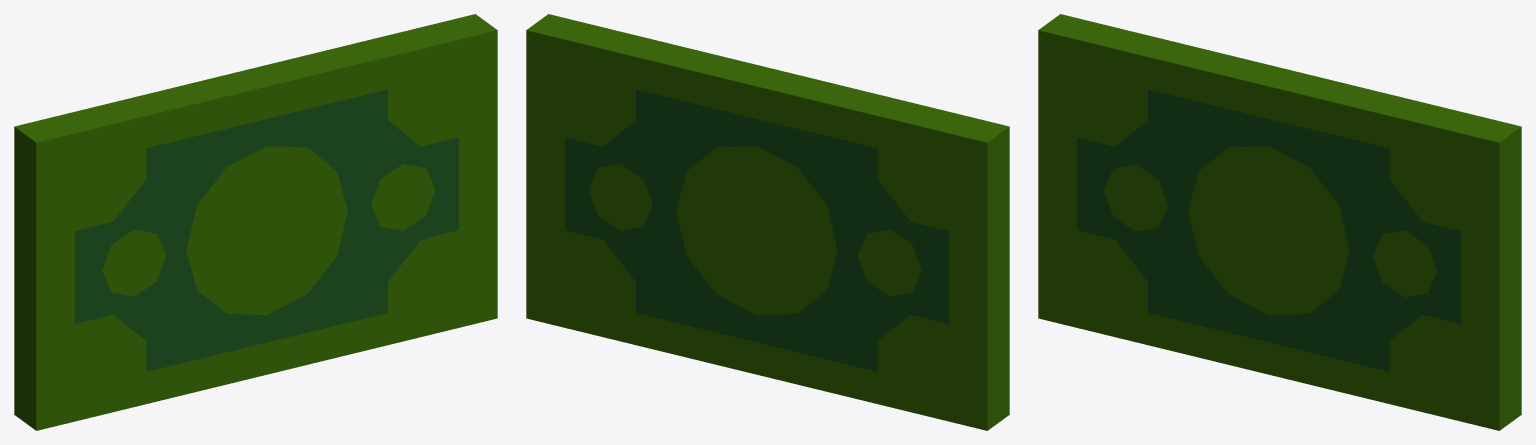
File: money_01.fbx
3 views of the same model, side by side, from view 1: azimuth 30°, elevation 25°; view 2: azimuth 150°, elevation 25°; view 3: azimuth 330°, elevation 25° (orthographic).
Visible parts, largest first — view 1: money_01; view 2: money_01; view 3: money_01.
Part boxes in pixels (x1,y1,x2,y2): money_01: (14, 14, 497, 430); money_01: (526, 14, 1009, 430); money_01: (1038, 14, 1521, 430).
Size of the model in its own units: 37.07 by 22.13 by 3.09.
